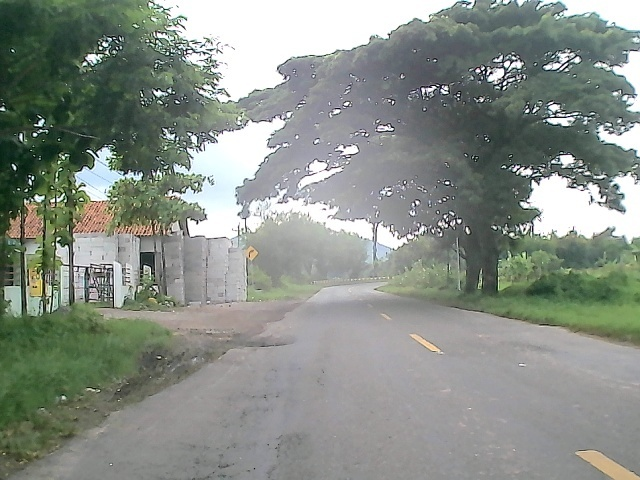Tikungan ke kanan: (244, 244, 260, 262)
